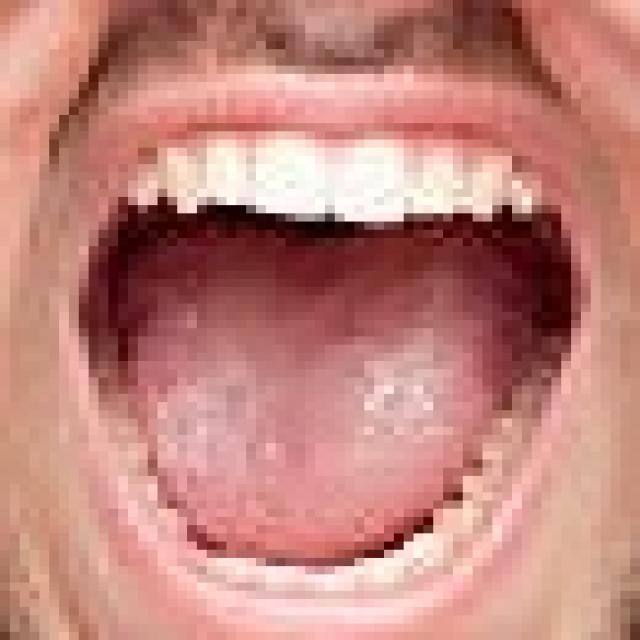open-mouth: (49, 82, 601, 624)
